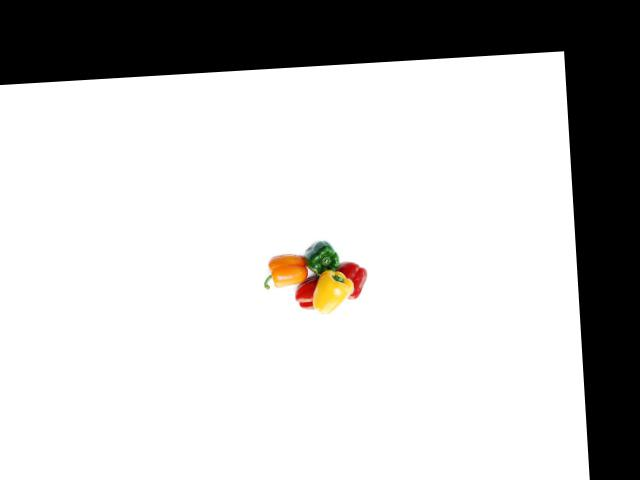bell_pepper: (301, 234, 348, 285)
